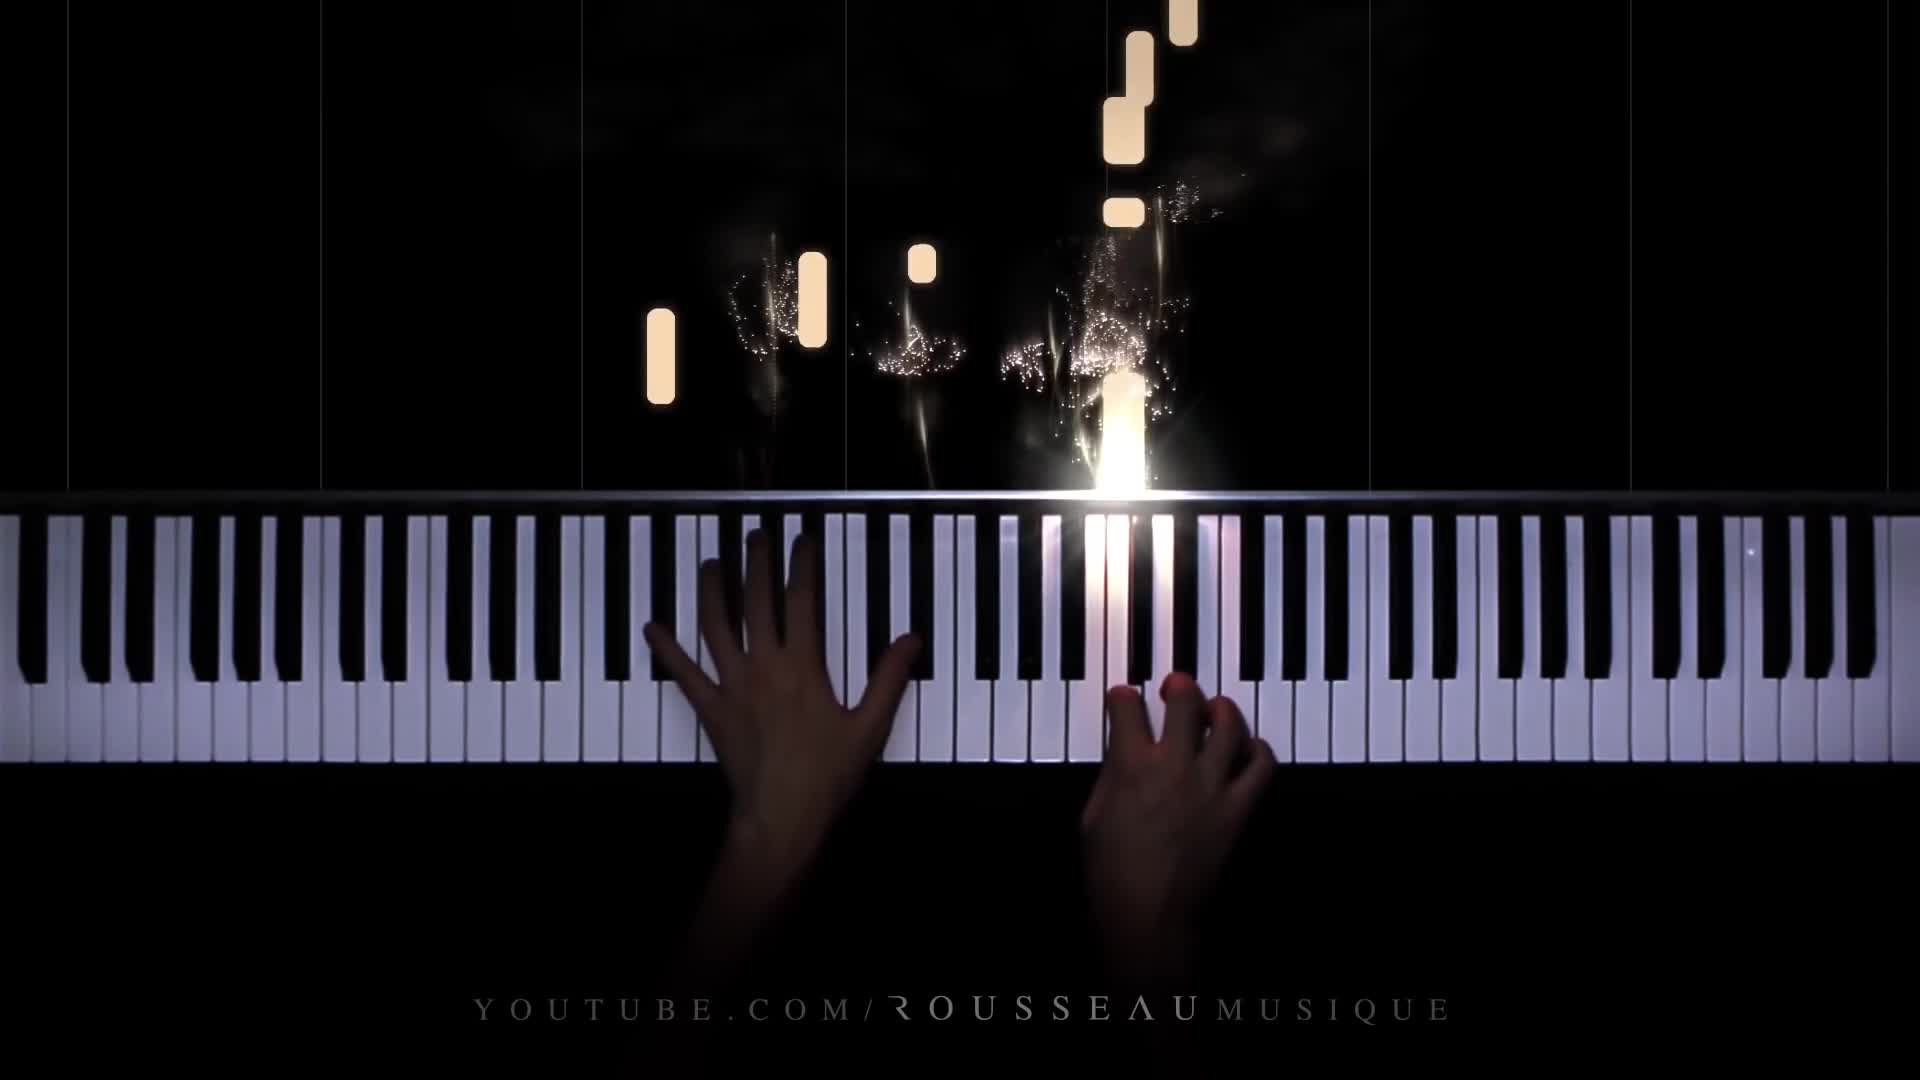left: (642, 522, 918, 804)
right: (1056, 669, 1282, 938)
